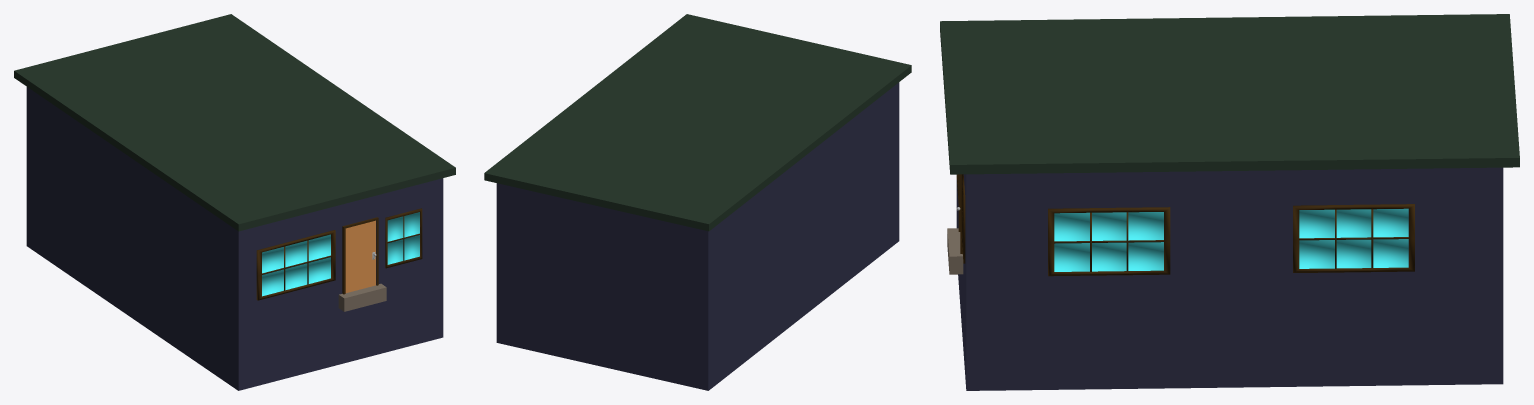
Rendered from sloppy2nds_compressed.glb.
The picture shows the model from 3 angles, left to right: view 1: azimuth 30°, elevation 25°; view 2: azimuth 150°, elevation 25°; view 3: azimuth 270°, elevation 25°; orthographic projection. The views are drawn at different scales.
Parts seen in each view (by area): view 1: Cube.302, Cube.298, Cube.300, Cube.299; view 2: Cube.302; view 3: Cube.302, Cube.300, Cube.298, Cube.299.
Part boxes in pixels (box(x1,y1,x2,y2)): Cube.302: box(14, 14, 455, 390); Cube.298: box(256, 208, 422, 300); Cube.300: box(262, 212, 419, 296); Cube.299: box(338, 283, 386, 311); Cube.302: box(484, 14, 911, 390); Cube.302: box(940, 14, 1519, 390); Cube.300: box(1054, 208, 1408, 271); Cube.298: box(956, 174, 1414, 276); Cube.299: box(947, 228, 963, 274).
Size of the model in its own units: 1.83 by 1.3 by 2.97.
